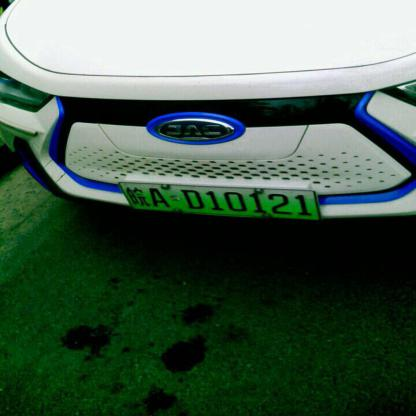lp: (121, 184, 320, 218)
